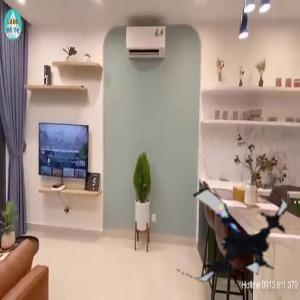drone: (168, 170, 297, 299)
